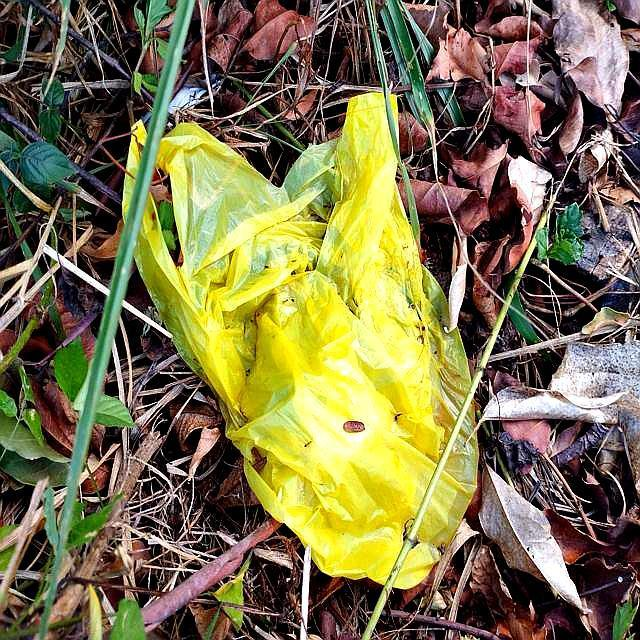Non-biodegradable: (124, 89, 484, 592)
